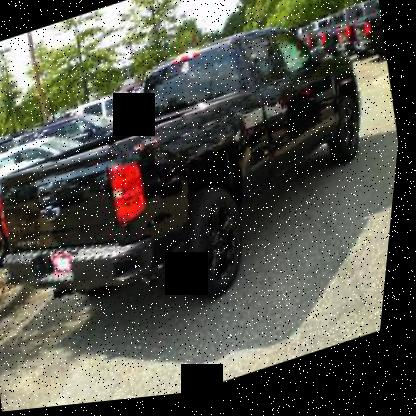not_emergency: (0, 0, 415, 368)
